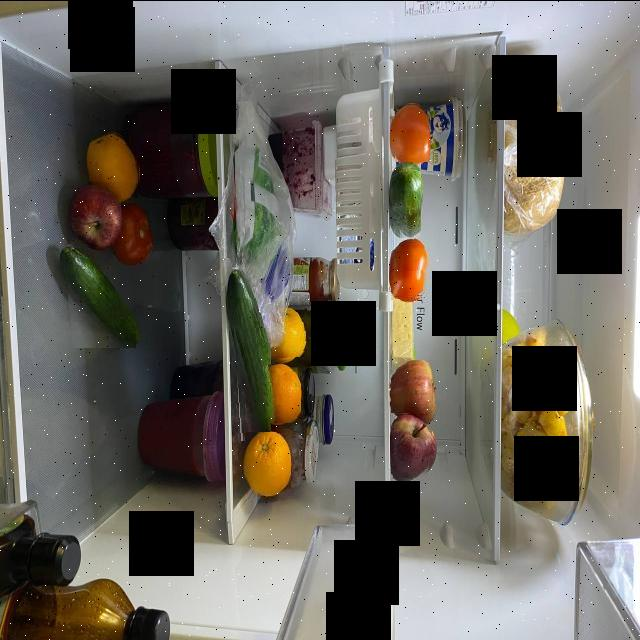Apple: (74, 181, 121, 247), (391, 414, 434, 486), (391, 360, 436, 416)
Cucumber: (62, 240, 136, 348), (230, 275, 271, 441), (392, 158, 421, 240)
Orange: (89, 130, 141, 198), (245, 432, 291, 500), (265, 366, 301, 424), (270, 308, 307, 358)
Tomato: (117, 201, 154, 267), (391, 238, 429, 300), (392, 102, 430, 162)
